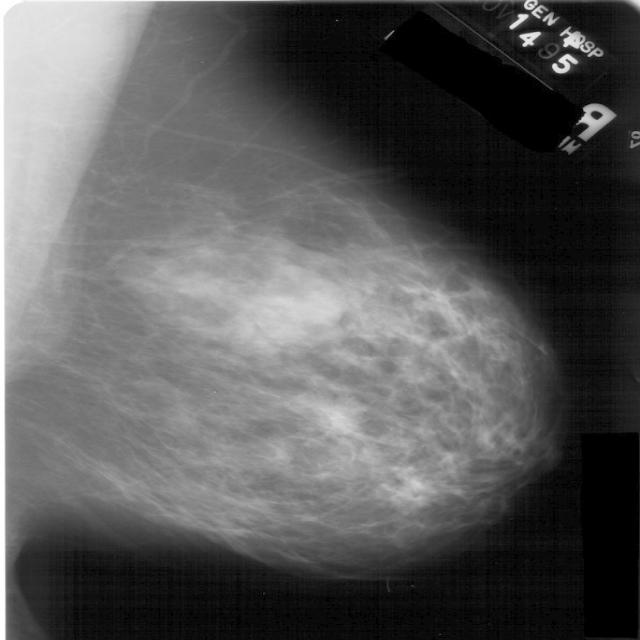tumour: (384, 467, 444, 507)
